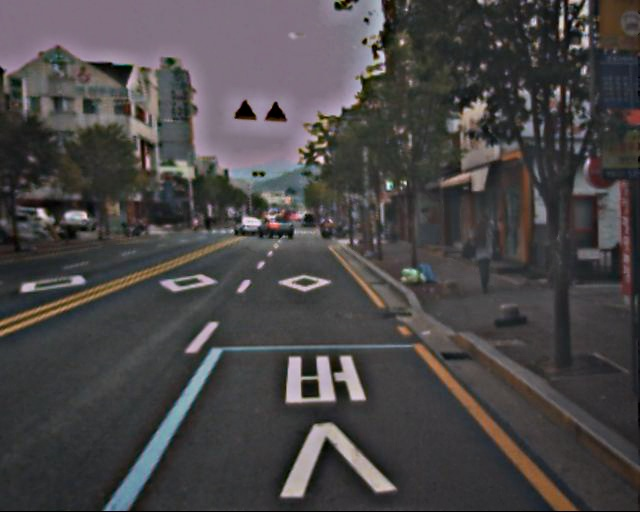person: (468, 216, 500, 290), (544, 227, 570, 285)
